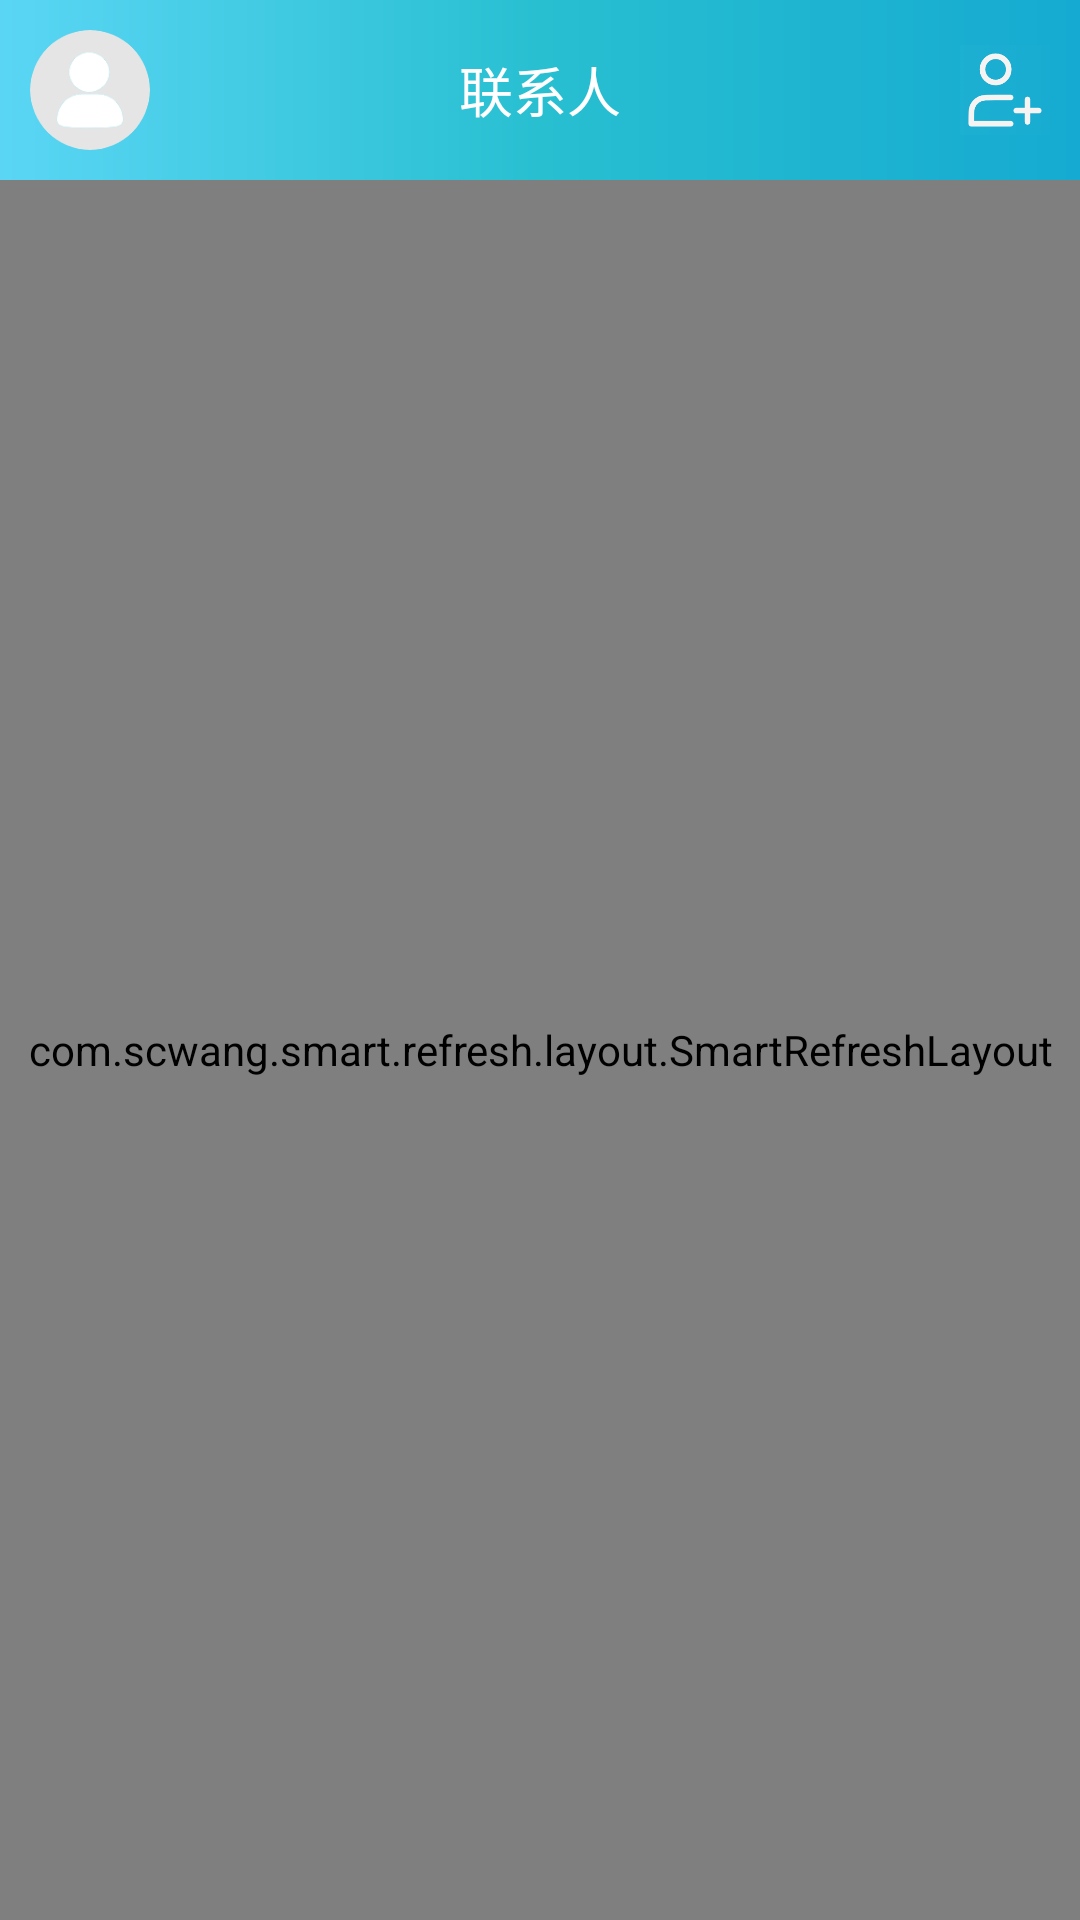

Screen size 1080px x 1920px. Icon name, then its center in pixels as point (x, y):
user add: point (1005, 90)
